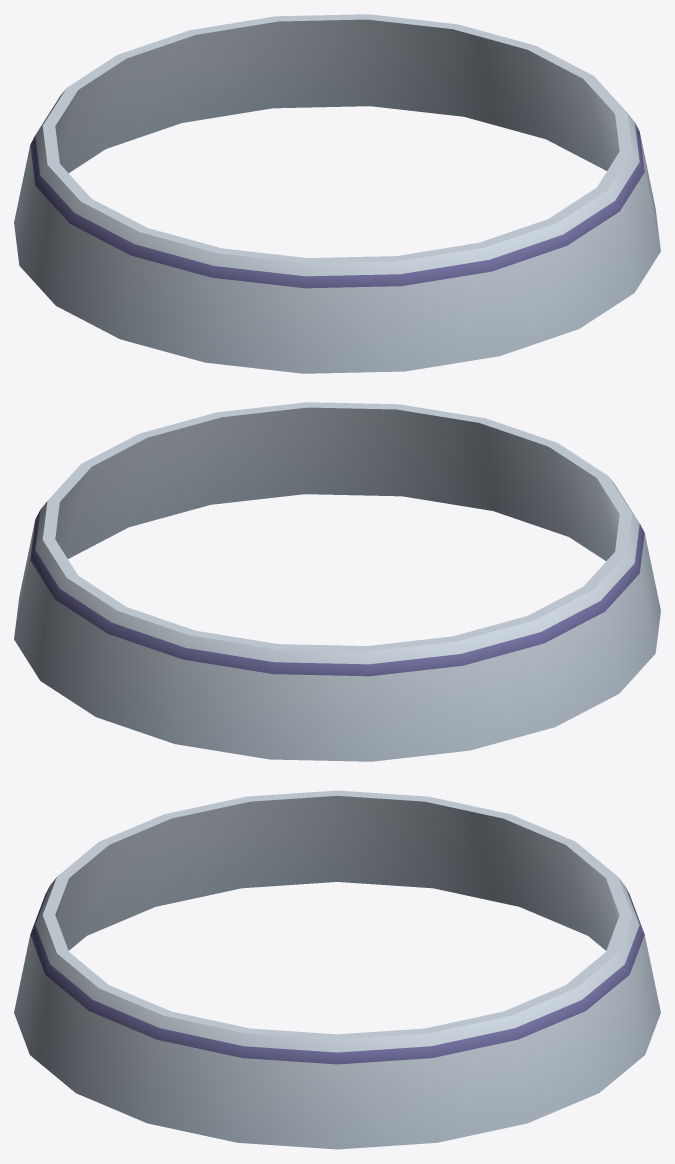
File: Ruin1.fbx
3 views of the same model, one above another, from view 1: azimuth 30°, elevation 25°; view 2: azimuth 150°, elevation 25°; view 3: azimuth 270°, elevation 25° (orthographic).
Visible parts, largest first — view 1: pCylinder1; view 2: pCylinder1; view 3: pCylinder1.
Part boxes in pixels (x1=…): pCylinder1: x1=14, y1=14, x2=660, y2=373; pCylinder1: x1=14, y1=402, x2=660, y2=761; pCylinder1: x1=14, y1=790, x2=660, y2=1149.
Bounding box in the file's own units: 6000 × 1000 × 6000.
